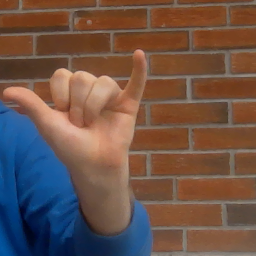Y: (2, 47, 149, 170)
